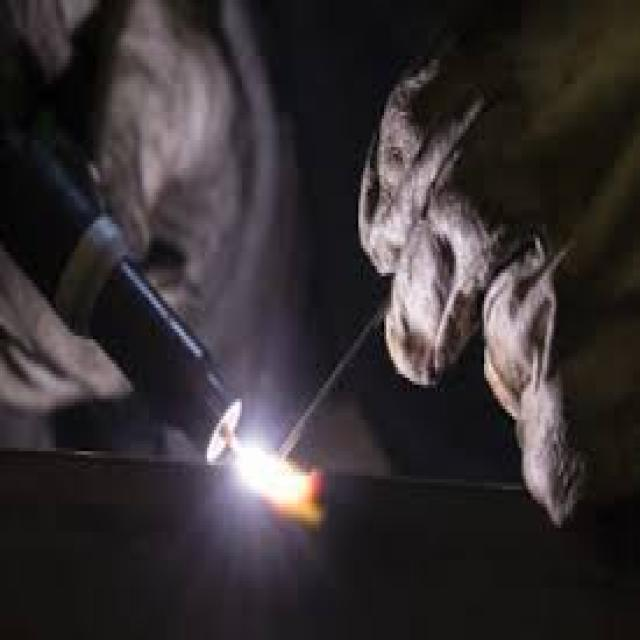welding: (240, 442, 271, 492)
